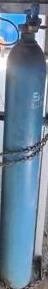cylinder: (0, 1, 48, 289)
